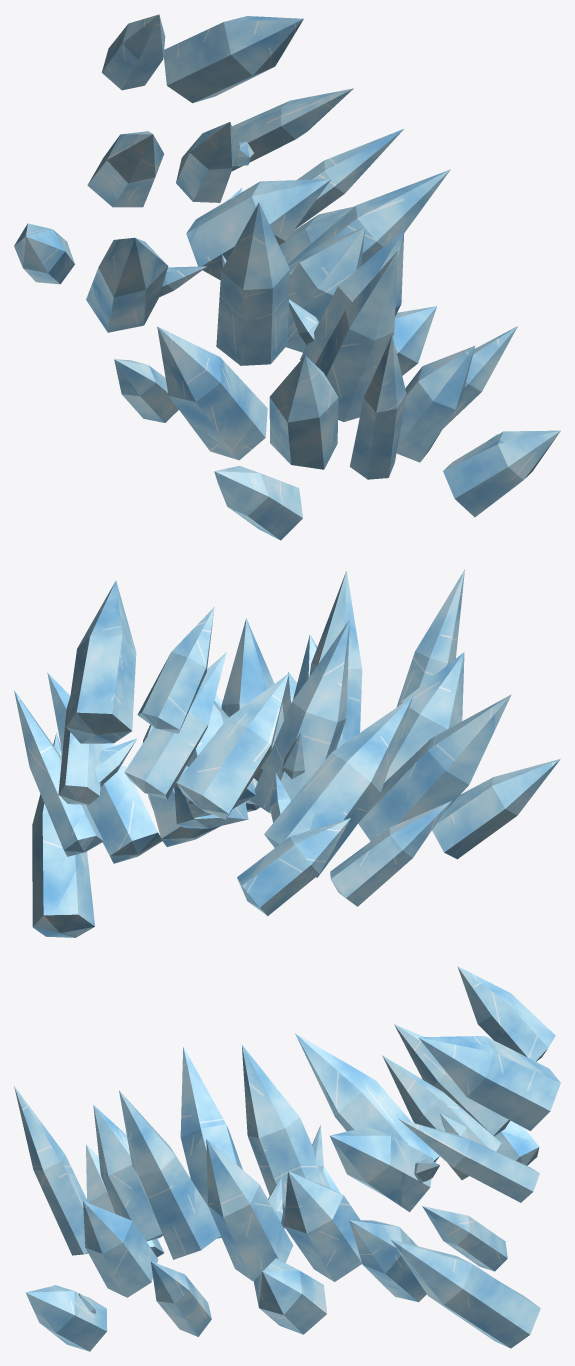
Rendered from IceArmour.fbx.
3 views of the same model, one above another, from view 1: azimuth 30°, elevation 25°; view 2: azimuth 150°, elevation 25°; view 3: azimuth 270°, elevation 25° (orthographic). The views are drawn at different scales.
Parts seen in each view (by area): view 1: IceArmour; view 2: IceArmour; view 3: IceArmour.
Boxes of the visible parts, x1,y1,x2,y2 form: IceArmour: [14, 14, 560, 540]; IceArmour: [14, 569, 560, 937]; IceArmour: [14, 966, 560, 1351].
Size of the model in its own units: 1.3 by 1.2 by 1.76.
1 material, 1 textured.
